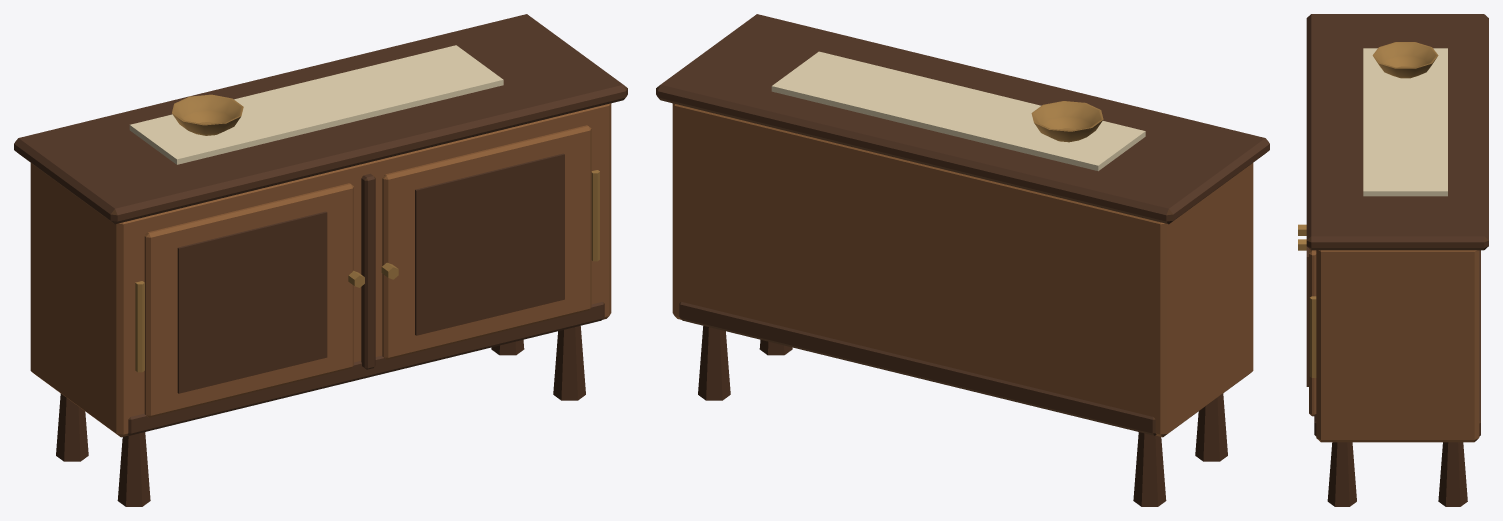
The model's file is prop_sideboard_wood_a.glb.
3 views of the same model, side by side, from view 1: azimuth 30°, elevation 25°; view 2: azimuth 150°, elevation 25°; view 3: azimuth 270°, elevation 25° (orthographic). The views are drawn at different scales.
Parts seen in each view (by area): view 1: sideboard_door_panel_0, sideboard_carcass, sideboard_runner, sideboard_bowl; view 2: sideboard_carcass, sideboard_door_panel_0, sideboard_runner, sideboard_bowl; view 3: sideboard_door_panel_0, sideboard_carcass, sideboard_runner, sideboard_bowl.
Boxes of the visible parts, x1=… form: sideboard_door_panel_0: x1=14, y1=14, x2=627, y2=506; sideboard_carcass: x1=30, y1=103, x2=611, y2=437; sideboard_runner: x1=129, y1=45, x2=503, y2=164; sideboard_bowl: x1=135, y1=94, x2=599, y2=372; sideboard_carcass: x1=672, y1=103, x2=1253, y2=437; sideboard_door_panel_0: x1=656, y1=14, x2=1269, y2=506; sideboard_runner: x1=771, y1=51, x2=1145, y2=171; sideboard_bowl: x1=1031, y1=101, x2=1103, y2=142; sideboard_door_panel_0: x1=1306, y1=14, x2=1488, y2=506; sideboard_carcass: x1=1309, y1=248, x2=1479, y2=442; sideboard_runner: x1=1363, y1=48, x2=1447, y2=196; sideboard_bowl: x1=1298, y1=42, x2=1438, y2=377.
Size of the model in its own units: 1.38 by 0.863 by 0.492.
